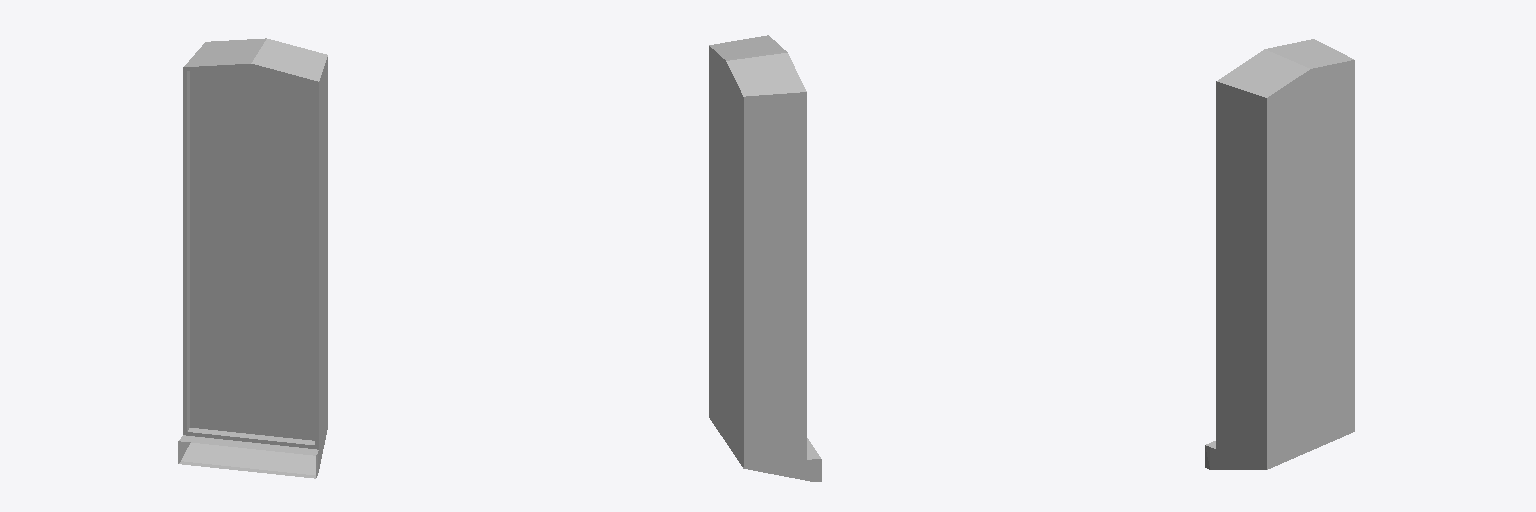
File: li-fang-ti-.001_cell.084.obj
3 views of the same model, side by side, from view 1: azimuth 30°, elevation 25°; view 2: azimuth 150°, elevation 25°; view 3: azimuth 270°, elevation 25° (orthographic).
Visible parts, largest first — view 1: 立方体.001_cell.084; view 2: 立方体.001_cell.084; view 3: 立方体.001_cell.084.
Boxes of the visible parts, box(x1,y1,x2,y2) form: 立方体.001_cell.084: box(178, 38, 327, 478); 立方体.001_cell.084: box(709, 35, 821, 481); 立方体.001_cell.084: box(1205, 39, 1354, 469).
Size of the model in its own units: 0.6554 by 1.92 by 0.6478.